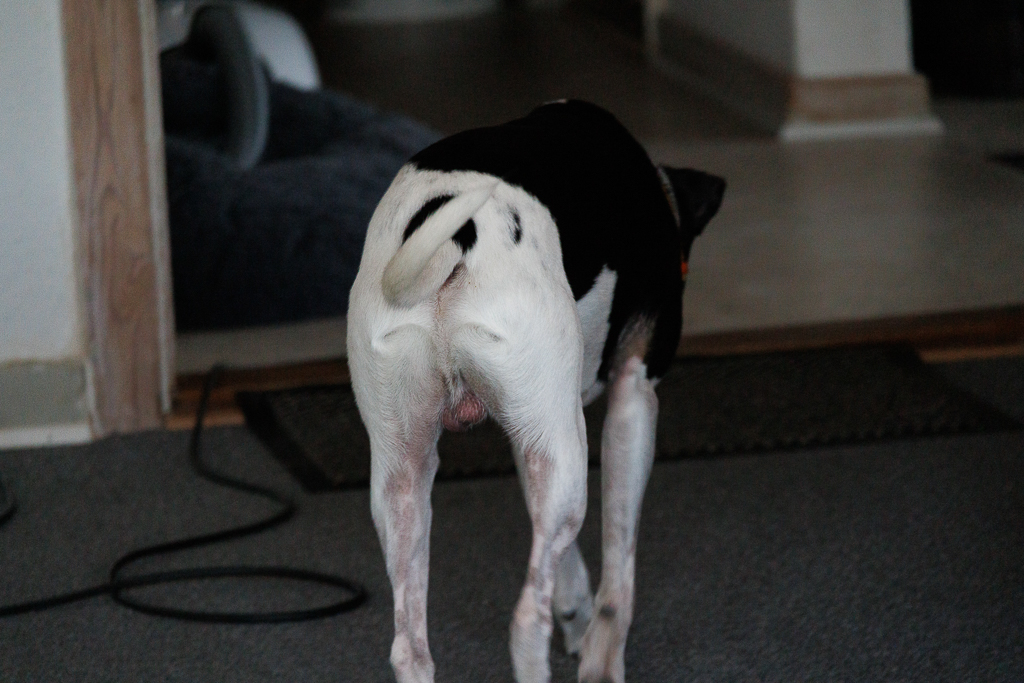Dog: (337, 81, 735, 682)
